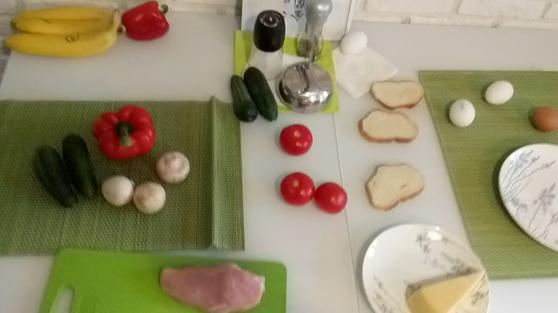banana: (5, 29, 119, 58), (7, 7, 121, 32)
champignon: (155, 149, 191, 183), (100, 174, 134, 206), (133, 182, 166, 213)
cheese: (410, 268, 483, 313)
chicken_fillet: (159, 262, 266, 311)
cucumber: (33, 145, 79, 207), (63, 133, 98, 201), (244, 67, 280, 121), (230, 74, 258, 121)
egg: (482, 79, 514, 105), (448, 99, 476, 126), (531, 106, 558, 132), (340, 31, 368, 55)
pepper: (92, 106, 158, 160), (121, 1, 172, 41)
tomato: (280, 172, 315, 206), (315, 181, 347, 214), (279, 124, 312, 155)
white_bread: (364, 163, 426, 212), (359, 108, 419, 144), (369, 79, 425, 108)
